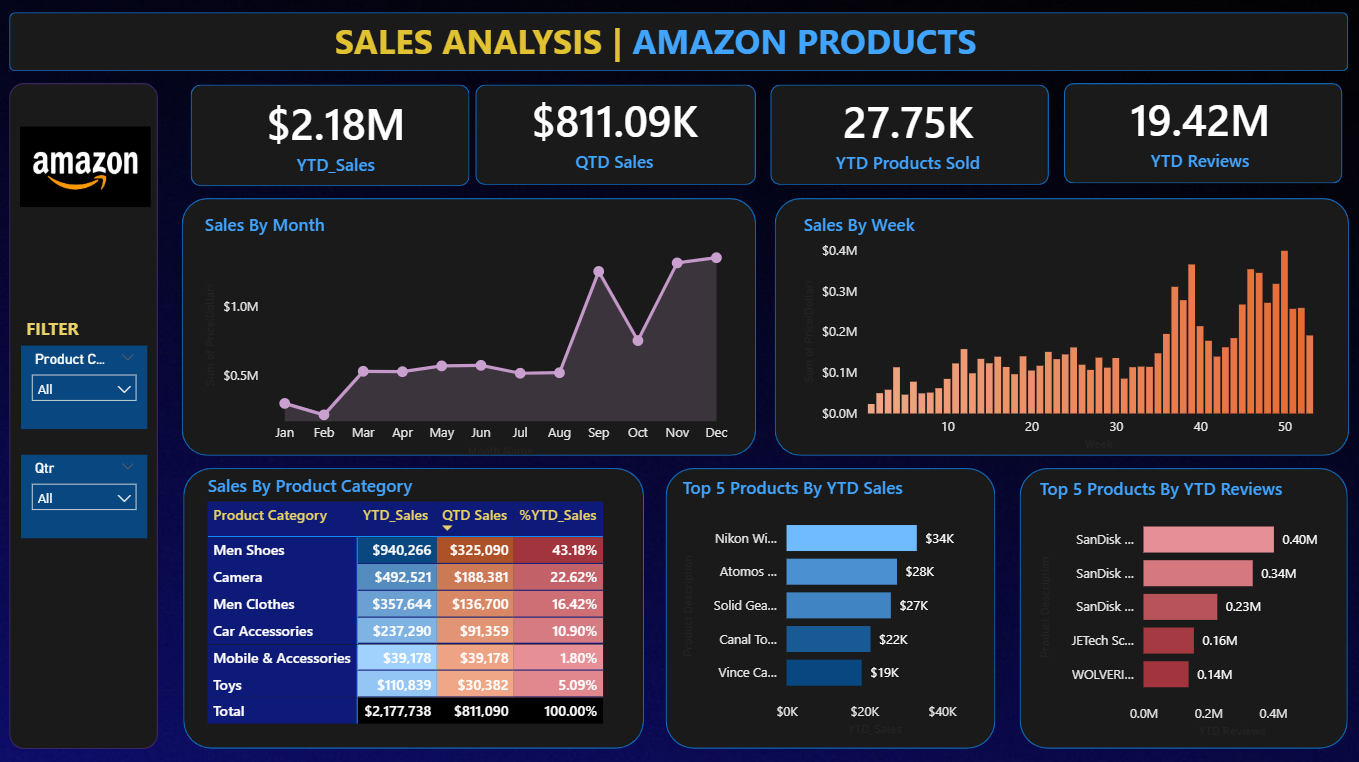

Layout of this report page (visuals, bound fields, positions):
{"tool":"powerbi","page":{"name":"Page 1","canvas":[1280,720],"ordinal":0},"visuals":[{"type":"group","id":"g1","title":"Group 1","box":[183.9,78.2,1075.8,96.5],"z":0},{"type":"shape","box":[999.5,78.2,260.2,93.9],"z":0,"group":"g1"},{"type":"shape","box":[15.3,12.3,1250.8,55.2],"z":1000},{"type":"shape","box":[725.7,80.2,260.2,93.9],"z":1000,"group":"g1"},{"type":"shape","box":[449.9,80.2,262.1,93.9],"z":2000,"group":"g1"},{"type":"card","fields":{"Values":["Amazon_Data.YTD_Sales"]},"box":[190.1,82.8,260.6,87.4],"z":2000},{"type":"textbox","box":[313.9,12.2,641.4,53.3],"z":3000},{"type":"shape","box":[183.9,79.7,260.6,95],"z":3000,"group":"g1"},{"type":"card","fields":{"Values":["Amazon_Data.QTD Sales"]},"box":[450.7,79.7,260.6,87.4],"z":4000},{"type":"shape","box":[15.6,78.2,138.9,622],"z":5000},{"type":"card","fields":{"Values":["Amazon_Data.YTD Products Sold"]},"box":[725.1,81.2,260.6,87.4],"z":6000},{"type":"card","fields":{"Values":["Amazon_Data.YTD Reviews"]},"box":[997.9,78.2,260.6,88.9],"z":7000},{"type":"shape","box":[176.3,185.5,536.5,240.7],"z":8000},{"type":"areaChart","title":"Sales By Month","fields":{"Y":["Sum(Amazon_Data.Price(Dollar))"],"Category":["Date Table.Month Name"]},"box":[193.5,199.6,502.8,233.1],"z":9000},{"type":"shape","box":[729.6,185.5,536.5,240.7],"z":10000},{"type":"columnChart","title":" Sales By Week","fields":{"Category":["Date Table.Week"],"Y":["Sum(Amazon_Data.Price(Dollar))"]},"box":[752.6,199.3,505.8,226.9],"z":11000},{"type":"shape","box":[178,438.2,430.3,262.1],"z":12000},{"type":"pivotTable","title":"Sales By Product Category","fields":{"Rows":["Amazon_Data.Product Category"],"Values":["Amazon_Data.YTD_Sales1","Amazon_Data.QTD Sales","Amazon_Data.YTD_Sales"]},"box":[195.6,444,387.3,248.4],"z":13000},{"type":"shape","box":[628.5,438.4,308.1,262.1],"z":14000},{"type":"shape","box":[959.6,438.4,306.6,262.1],"z":15000},{"type":"clusteredBarChart","title":"Top 5 Products By YTD Sales","fields":{"Category":["Amazon_Data.Product Description"],"Y":["Amazon_Data.YTD_Sales"]},"box":[639.2,444.5,286.6,248.3],"z":16000},{"type":"clusteredBarChart","title":"Top 5 Products By YTD Reviews","fields":{"Category":["Amazon_Data.Product Description"],"Y":["Amazon_Data.YTD Reviews"]},"box":[972.2,446,287.5,248.4],"z":17000},{"type":"slicer","fields":{"Values":["Amazon_Data.Product Category"]},"box":[26.1,323.4,118,78.2],"z":18000},{"type":"slicer","fields":{"Values":["Date Table.Qtr"]},"box":[26.1,426.1,118,78.2],"z":19000},{"type":"image","box":[10.7,114.3,150.8,85.3],"z":20000},{"type":"textbox","box":[26.1,292.8,128.8,38.3],"z":21000}]}

Visuals, with their boxes in screenshot pixels (x1, y1, x2, y2), scaled from the page's 1280x720 canvas onto the 1359x762 screenshot:
"Group 1" group: [195,83,1337,185]
shape: [1061,83,1337,182]
shape: [16,13,1344,71]
shape: [770,85,1047,184]
shape: [478,85,756,184]
card - Amazon_Data.YTD_Sales: [202,88,479,180]
textbox: [333,13,1014,69]
shape: [195,84,472,185]
card - Amazon_Data.QTD Sales: [479,84,755,177]
shape: [17,83,164,741]
card - Amazon_Data.YTD Products Sold: [770,86,1047,178]
card - Amazon_Data.YTD Reviews: [1059,83,1336,177]
shape: [187,196,757,451]
"Sales By Month" areaChart: [205,211,739,458]
shape: [775,196,1344,451]
" Sales By Week" columnChart: [799,211,1336,451]
shape: [189,464,646,741]
"Sales By Product Category" pivotTable: [208,470,619,733]
shape: [667,464,994,741]
shape: [1019,464,1344,741]
"Top 5 Products By YTD Sales" clusteredBarChart: [679,470,983,733]
"Top 5 Products By YTD Reviews" clusteredBarChart: [1032,472,1337,735]
slicer - Amazon_Data.Product Category: [28,342,153,425]
slicer - Date Table.Qtr: [28,451,153,534]
image: [11,121,171,211]
textbox: [28,310,164,350]
